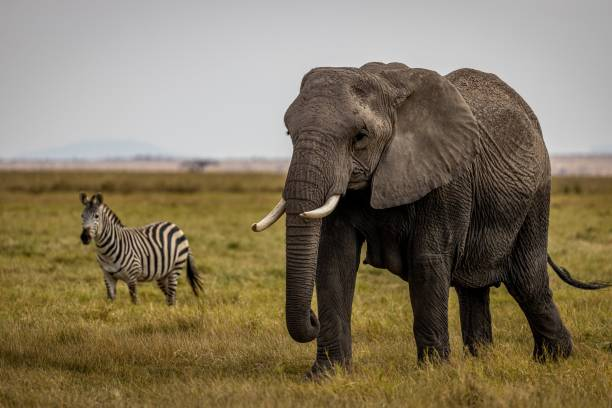africanelephant: (247, 51, 406, 287)
